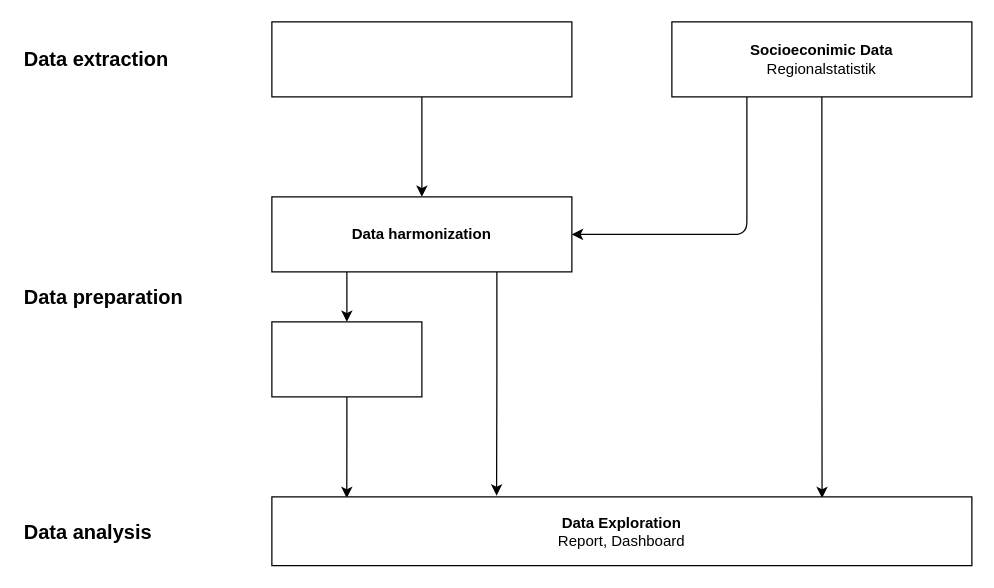
This 994x588 diagram has some shape labels left out. Here are the shapes that lost their labels. From the top down, the centre of each, then its label:
At point 421,59: "Data Source Stepstone (Job offers, Company profiles)".
At point 346,359: "Text Mining".
